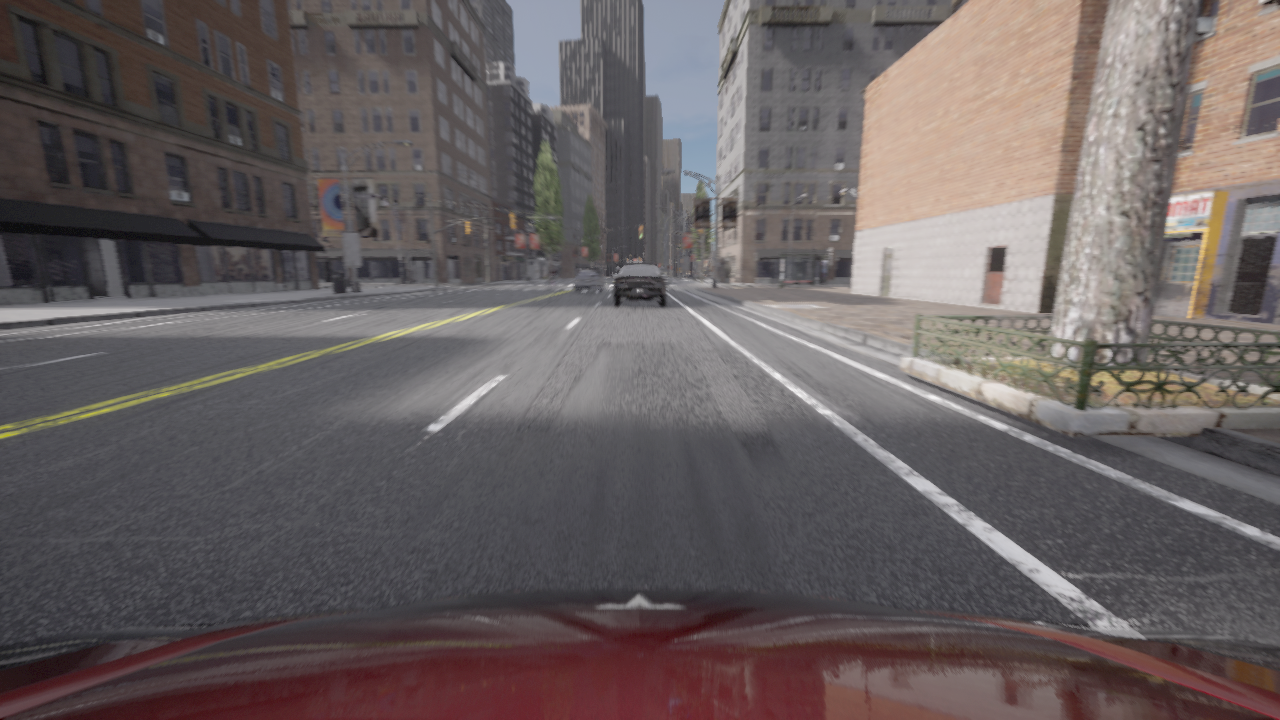cyclist: (0, 588, 1279, 719), (614, 262, 666, 305), (574, 270, 605, 291), (551, 274, 555, 288)
